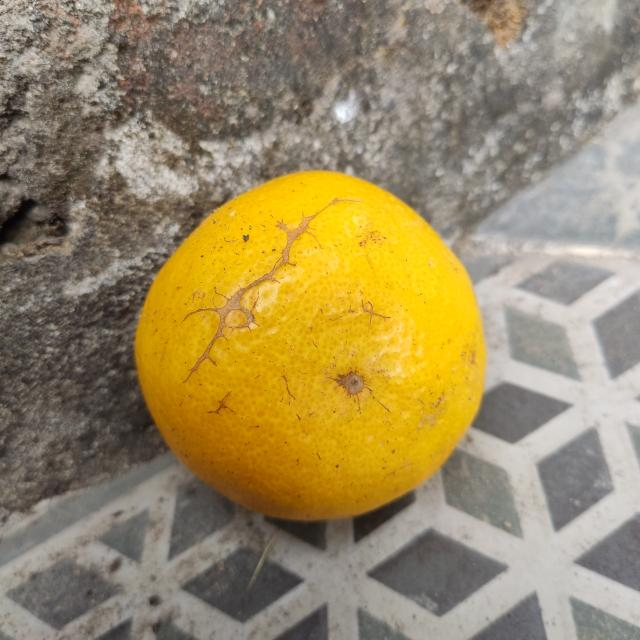orange: (128, 170, 487, 527)
